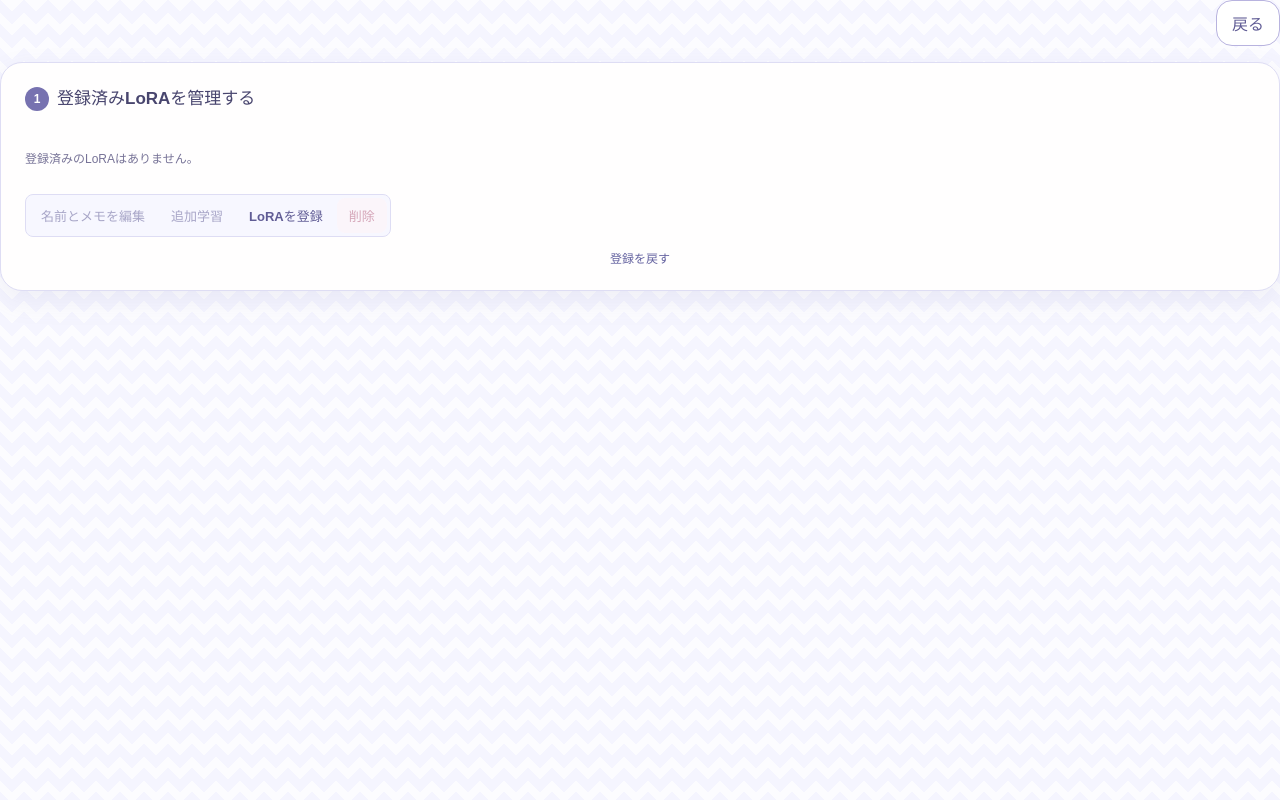
Test: keeps failed restore in the list and allows cancellation or retry
Click the button "登録を戻す" at (640, 257), box [25,248,1255,266]
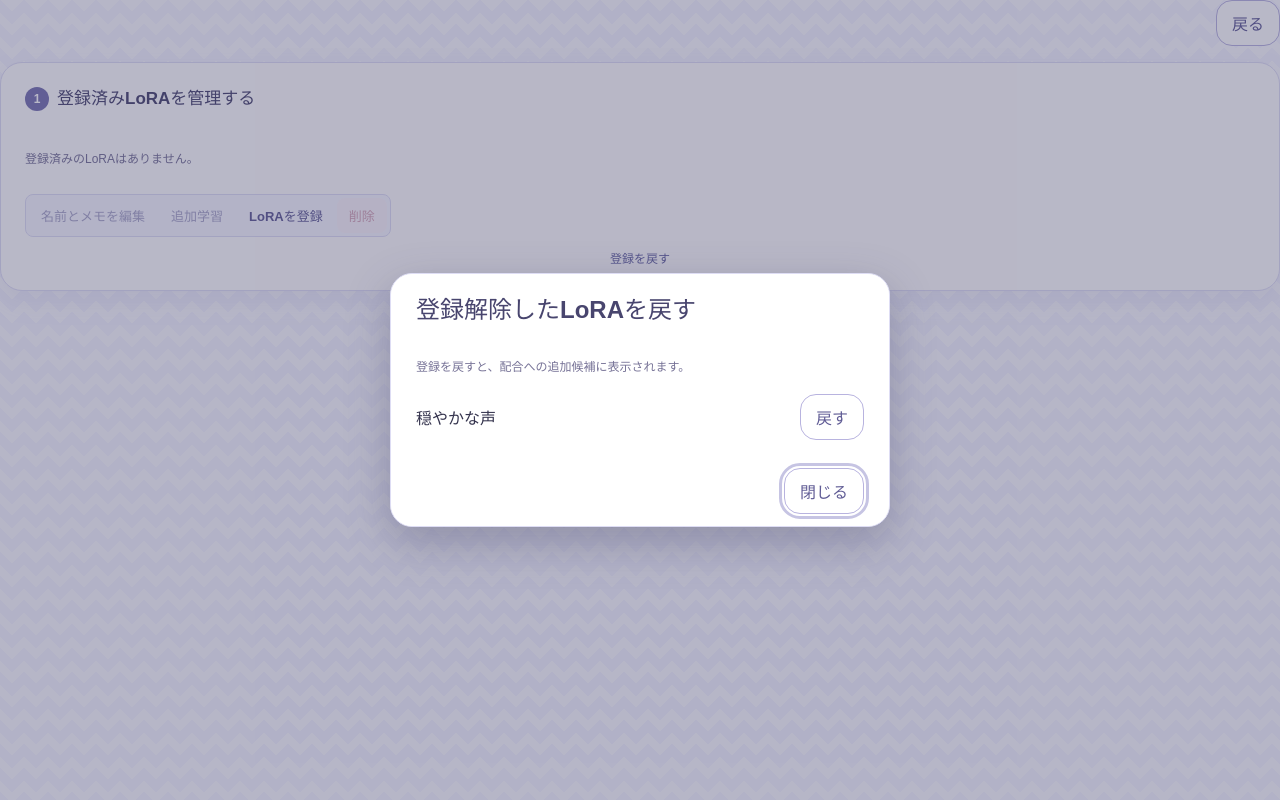
Click the button with aria-label "穏やかな声を戻す" at (832, 417), box [800,394,864,440]
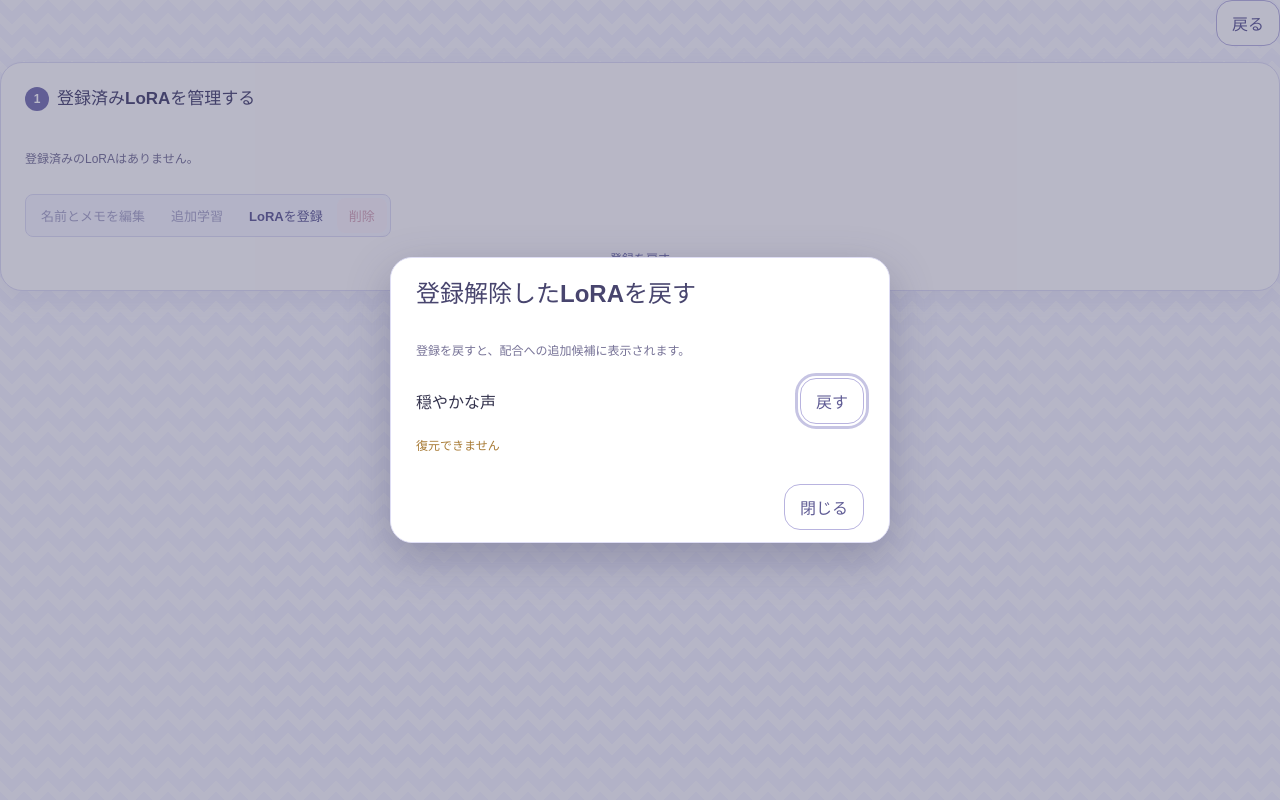
Expected: the button with aria-label "穏やかな声を戻す" is enabled
Expected: the message reads "復元できません", [416,438,500,452]
Click the button with aria-label "穏やかな声を戻す" at (832, 400), box [800,378,864,424]
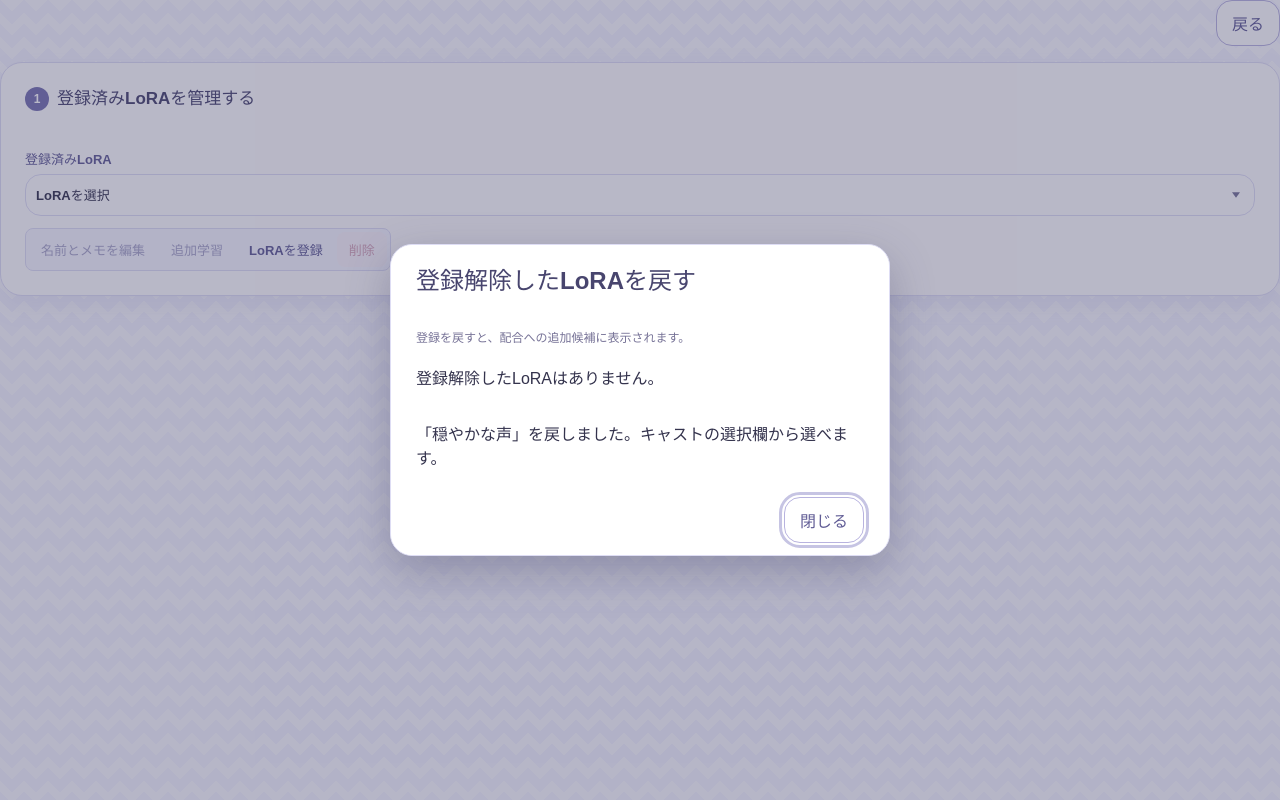
Expected: the text "「穏やかな声」を戻しました。キャストの選択欄から選べます。" is shown, [416,421,864,469]
